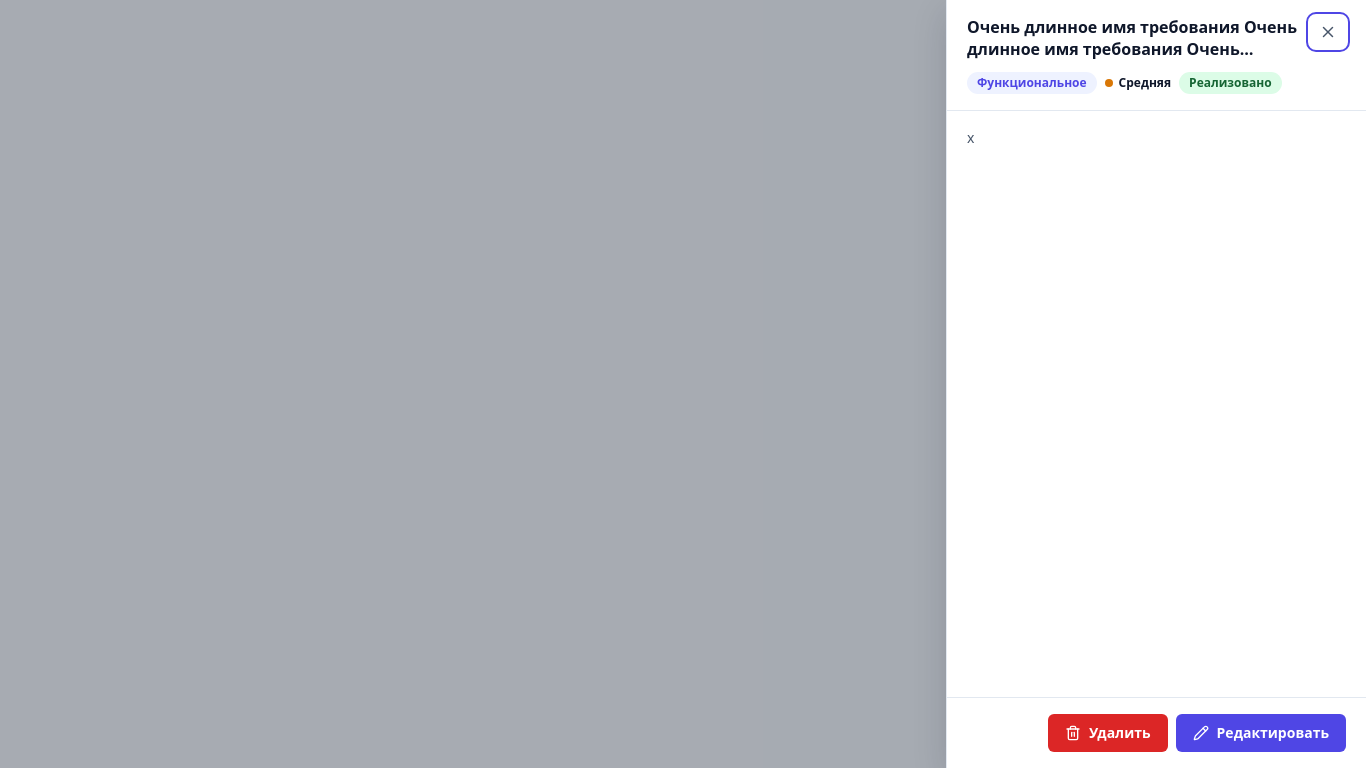
Test case: DescPanel (T-1104, FR-7.4 / T6 desc-panel mockup §2.7) › clamps the title to 2 lines and expands it on click (line-clamp-2)
The image size is (1366, 768).
Step 1. Click the button with test id "desc-panel-title" → x=1132, y=38, box top-left (967, 16), bottom-right (1298, 60)
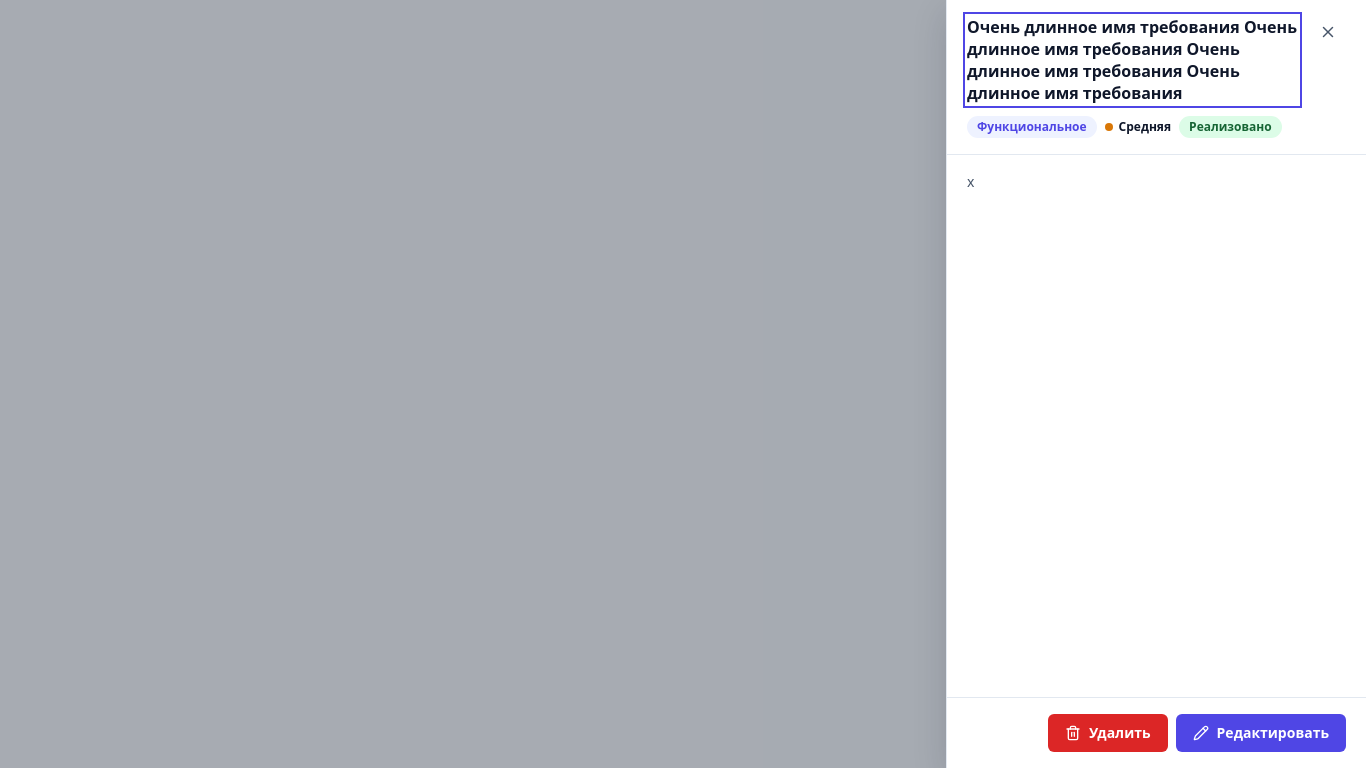
Now the button with test id "desc-panel-title" is expanded, box top-left (967, 16), bottom-right (1298, 104)
